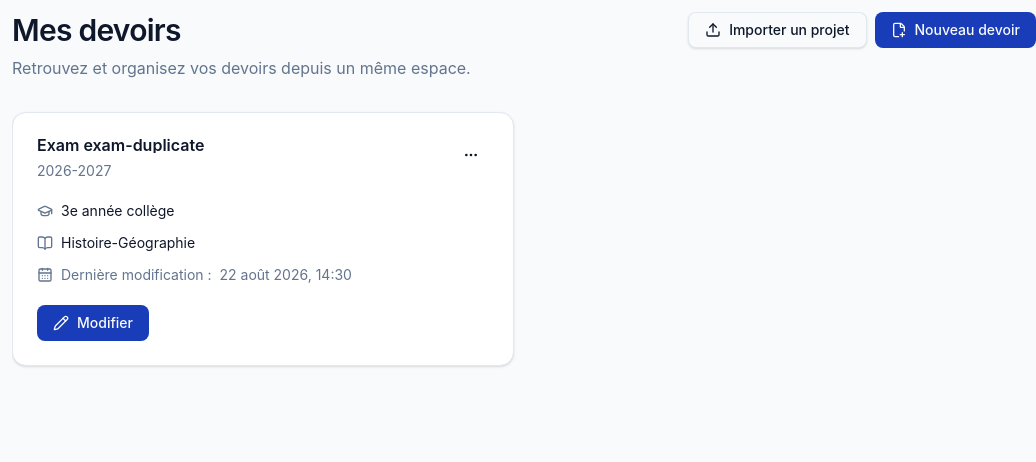
Test: DashboardPage › duplicates, persists, and immediately displays a new Exam
Check: the text "Exam exam-duplicate" is shown, box [37, 137, 204, 153]
Click the button named "Actions pour Exam exam-duplicate". click: (471, 155)
box: [453, 137, 489, 173]
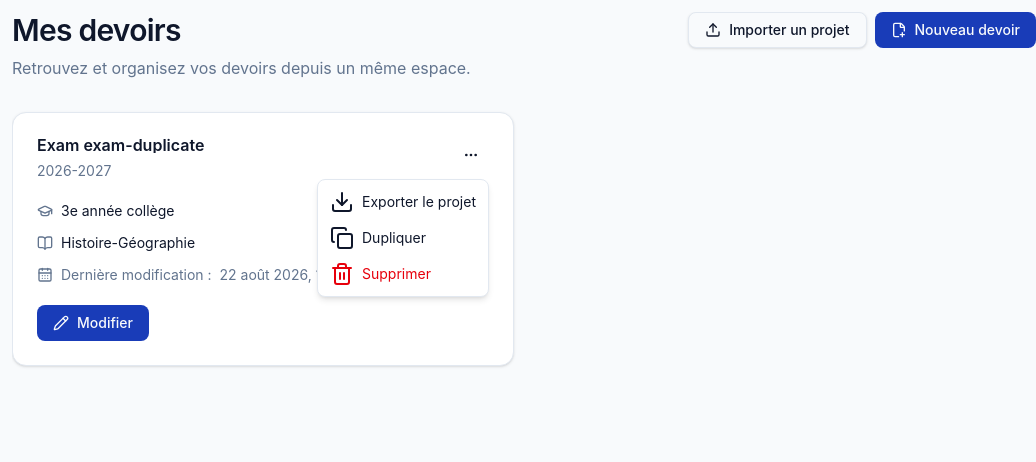
Click the menu item "Dupliquer". click: (378, 238)
box: [330, 226, 426, 250]
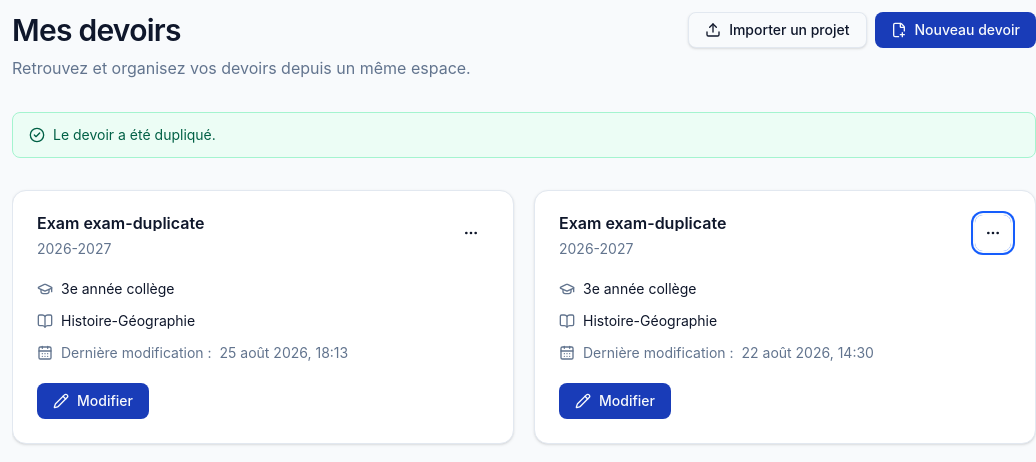
Check: the text "Le devoir a été dupliqué." is shown, box [53, 125, 216, 145]
Check: the text "Exam exam-duplicate" is shown 2 times, box [37, 215, 204, 231]; [559, 215, 726, 231]
